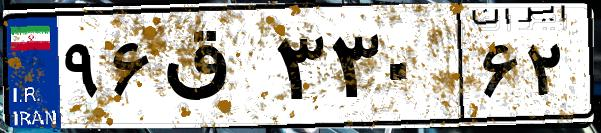0: (385, 28, 445, 110)
2: (525, 38, 570, 115)
3: (270, 28, 330, 110), (330, 28, 385, 110)
6: (475, 38, 525, 113), (110, 28, 158, 98)
9: (57, 26, 110, 100)
ق: (158, 20, 270, 120)
